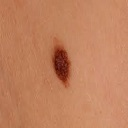Melanoma: (50, 44, 79, 87)
